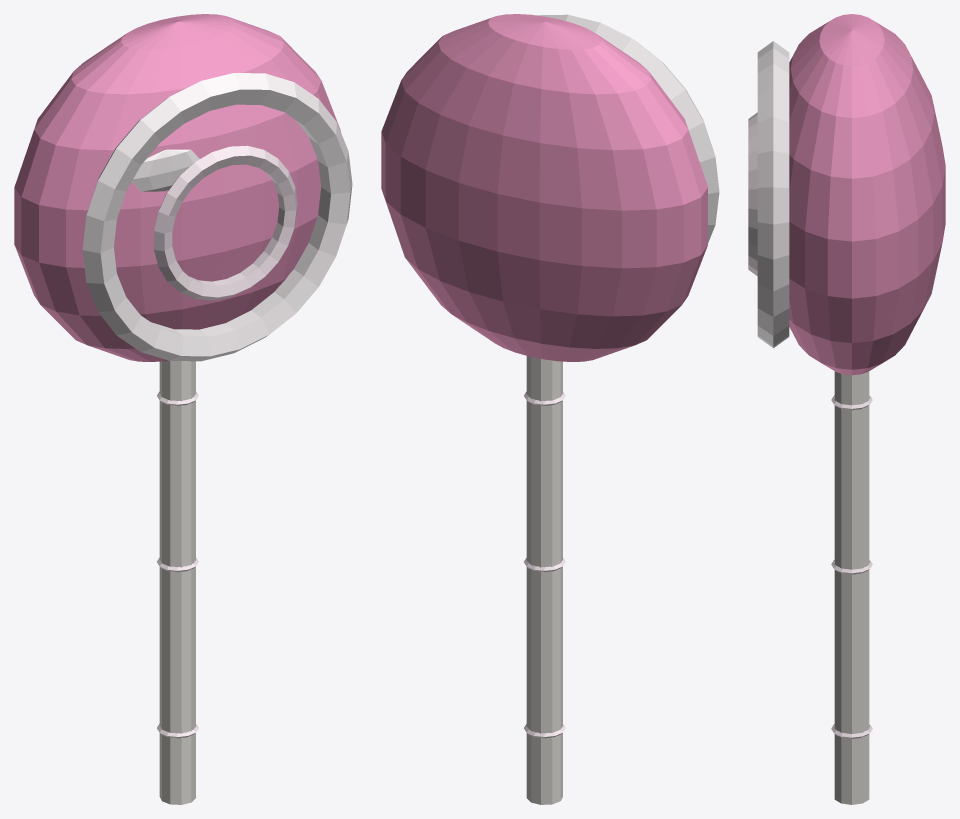
The model's file is piruleta_rosa.glb.
The picture shows the model from 3 angles, left to right: view 1: azimuth 30°, elevation 25°; view 2: azimuth 150°, elevation 25°; view 3: azimuth 270°, elevation 25°; orthographic projection.
Visible parts, largest first — view 1: piruleta_rosa; view 2: piruleta_rosa; view 3: piruleta_rosa.
Boxes of the visible parts, box(x1,y1,x2,y2) form: piruleta_rosa: box(14, 14, 352, 804); piruleta_rosa: box(381, 14, 719, 804); piruleta_rosa: box(748, 14, 945, 804).
Size of the model in its own units: 2.36 by 5.6 by 1.31.
